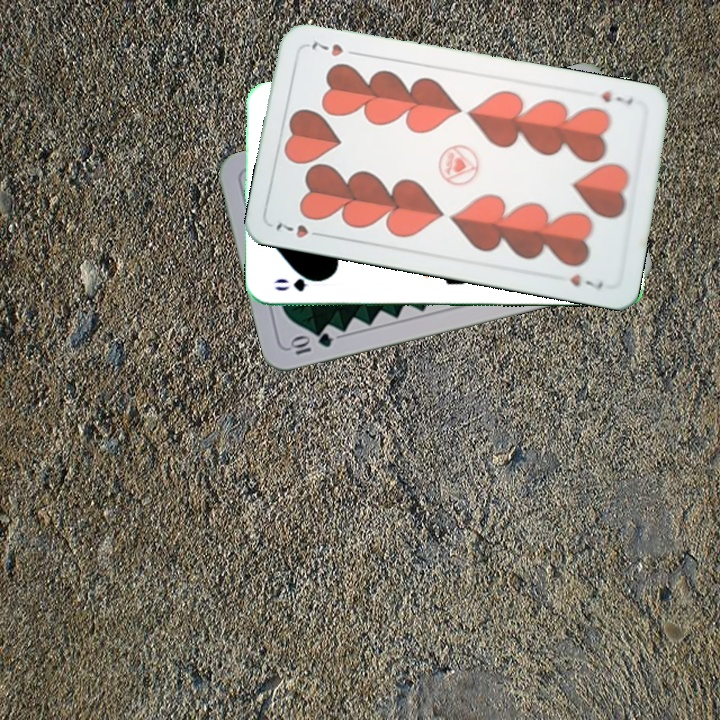G10: (286, 328, 335, 358)
GO: (270, 273, 329, 294)
H7: (272, 218, 328, 241), (597, 86, 636, 109)
